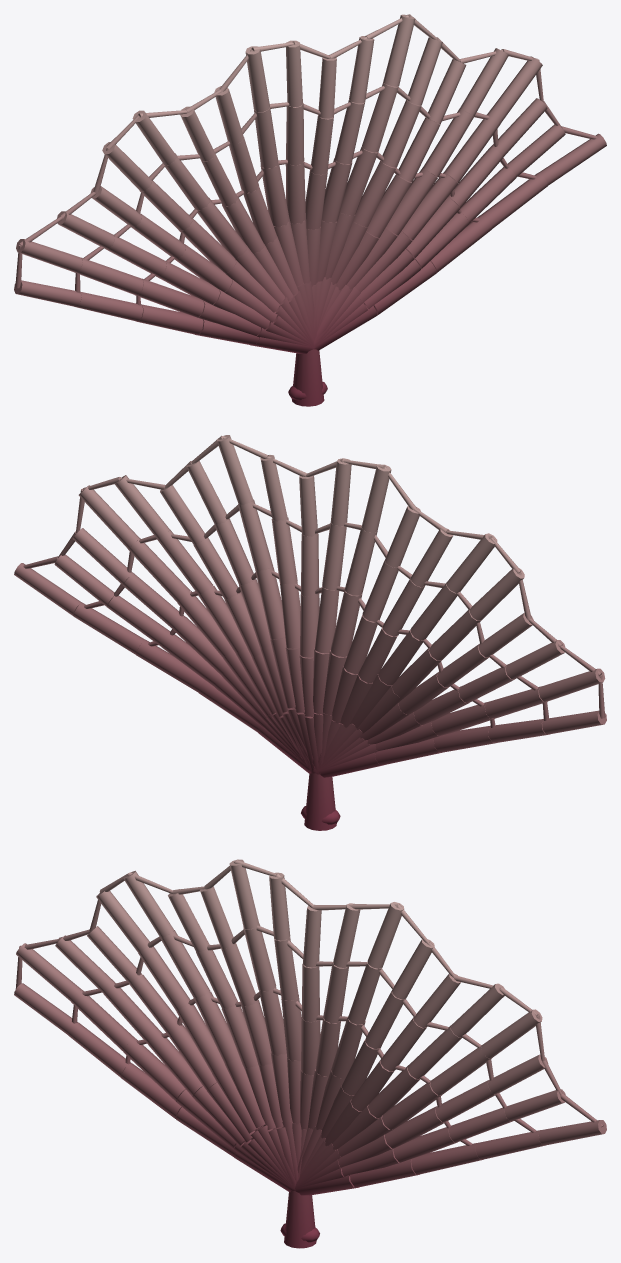
The model's file is coral_fan.glb.
The picture shows the model from 3 angles, top to bottom: view 1: azimuth 30°, elevation 25°; view 2: azimuth 150°, elevation 25°; view 3: azimuth 330°, elevation 25°; orthographic projection.
Visible parts, largest first — view 1: Pelagic.coral_fan.Surface; view 2: Pelagic.coral_fan.Surface; view 3: Pelagic.coral_fan.Surface.
Boxes of the visible parts, x1,y1,x2,y2 form: Pelagic.coral_fan.Surface: (14, 14, 606, 406); Pelagic.coral_fan.Surface: (14, 435, 606, 830); Pelagic.coral_fan.Surface: (14, 859, 606, 1248).
Size of the model in its own units: 1.98 by 1.19 by 0.1131.
